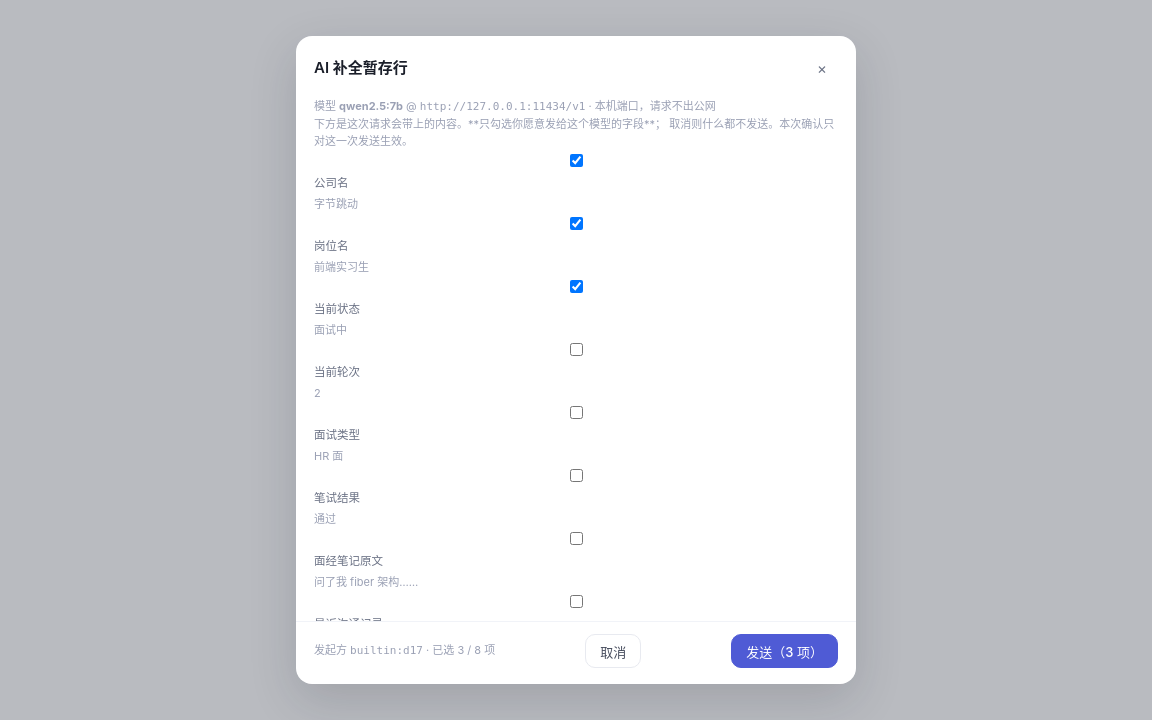
it: SendPreviewDialog（D13） › 无锁定字段时全部取消勾选 → 发送按钮禁用（空请求没有意义）
Click the checkbox labelled "公司名 字节跳动" at (576,160), box [318,154,835,167]
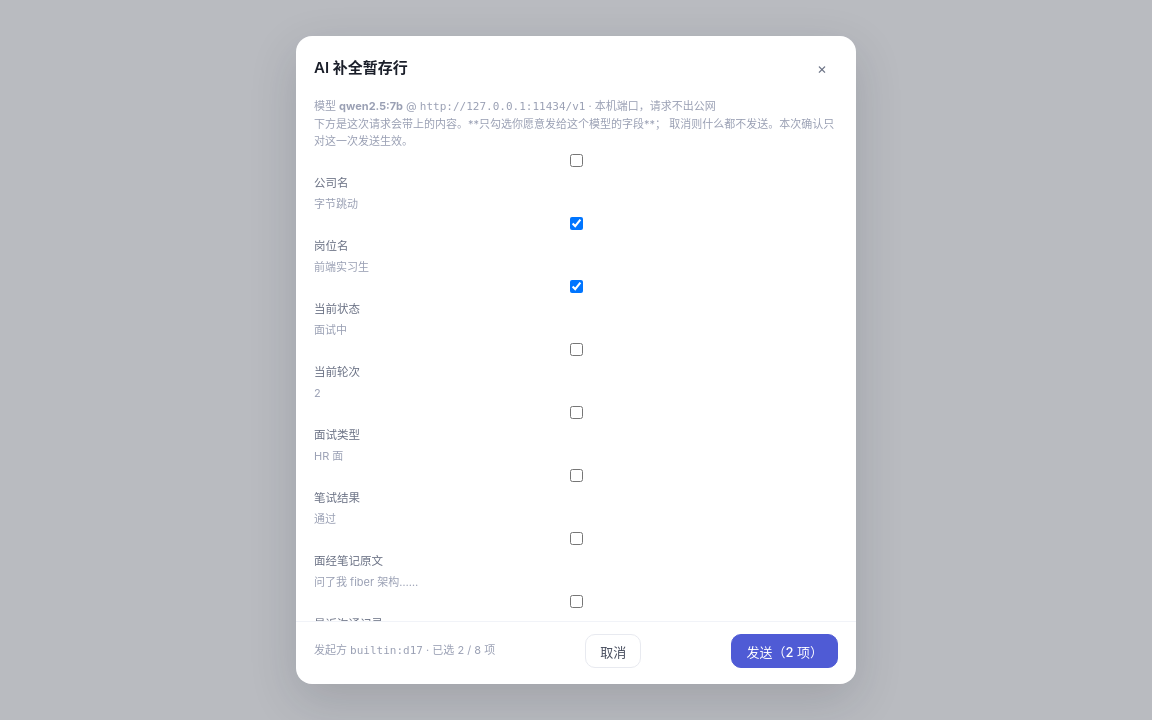
Click the checkbox labelled "岗位名 前端实习生" at (576,223), box [318,217,835,230]
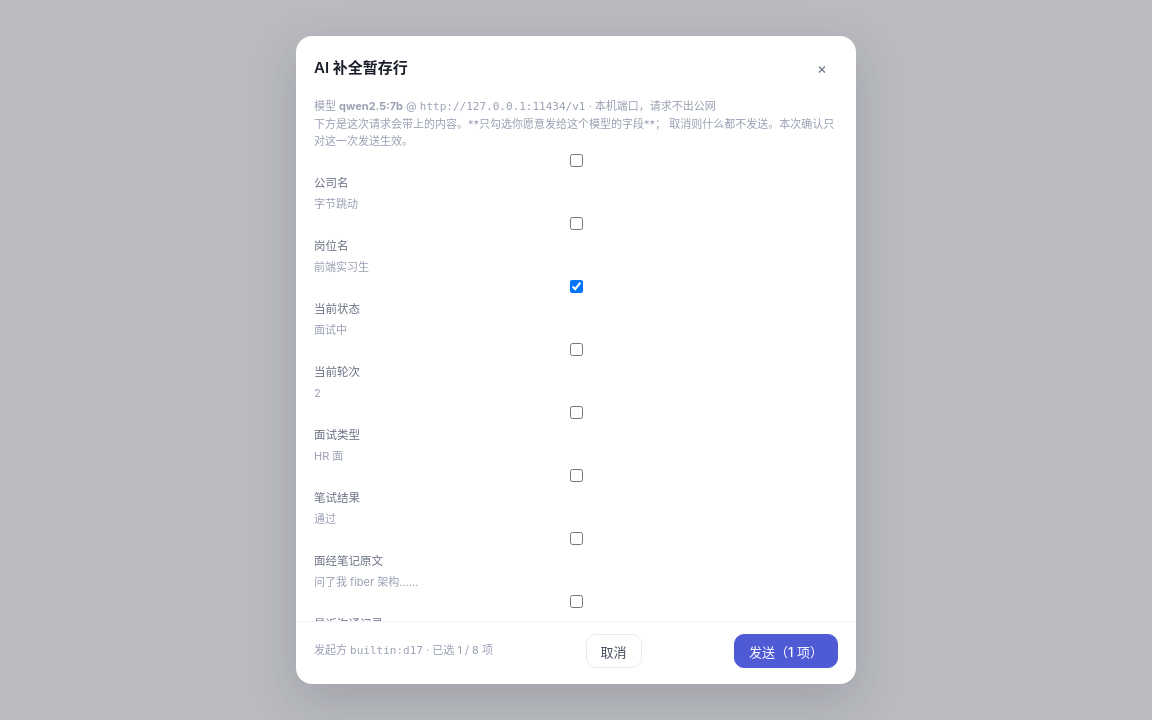
Click the checkbox labelled "当前状态 面试中" at (576,286), box [318,280,835,293]
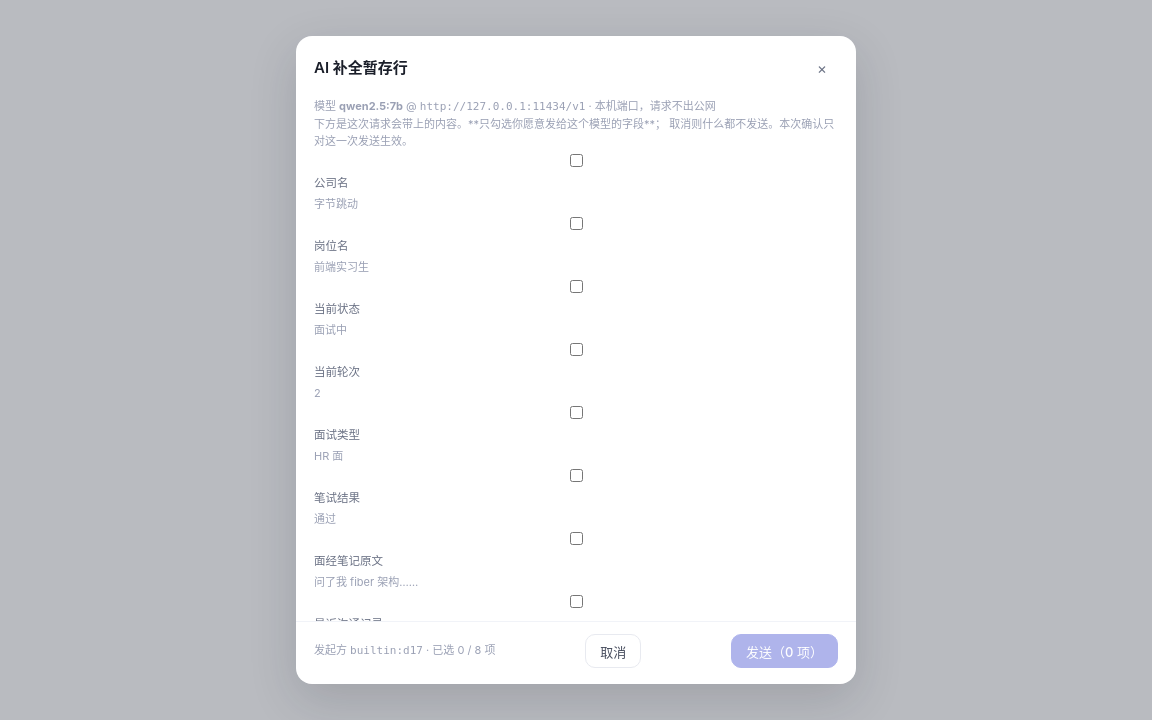
Check: the button with test id "send-preview-confirm" is disabled, box [731,634,838,668]
